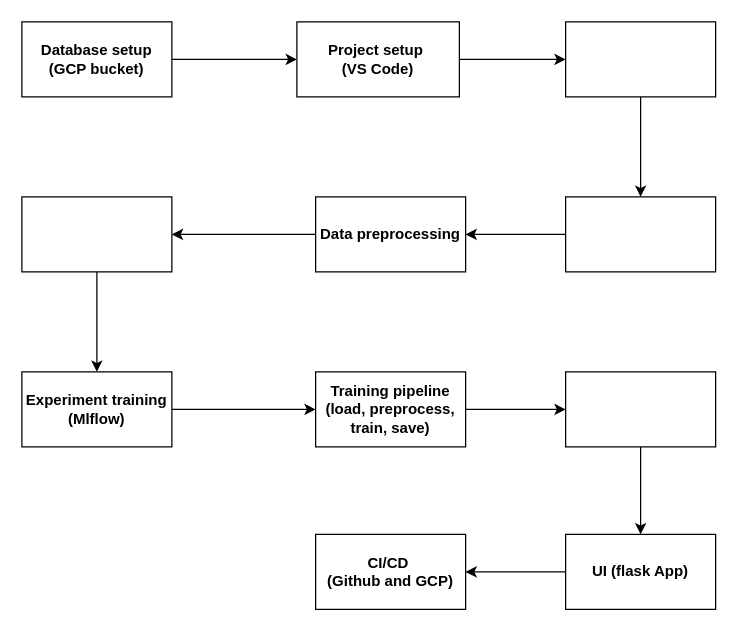
The diagram is 738 pixels wide and 631 high, and some of its shapes have lost their labels. The box of each missing label's shape, as (x1, y1, x2, y2) in pixels:
Data & Code version (Github ): (564, 371, 716, 447)
Data Ingestion: (564, 21, 716, 97)
Experiment (notebook): (564, 196, 716, 272)
Model training: (21, 196, 172, 272)
